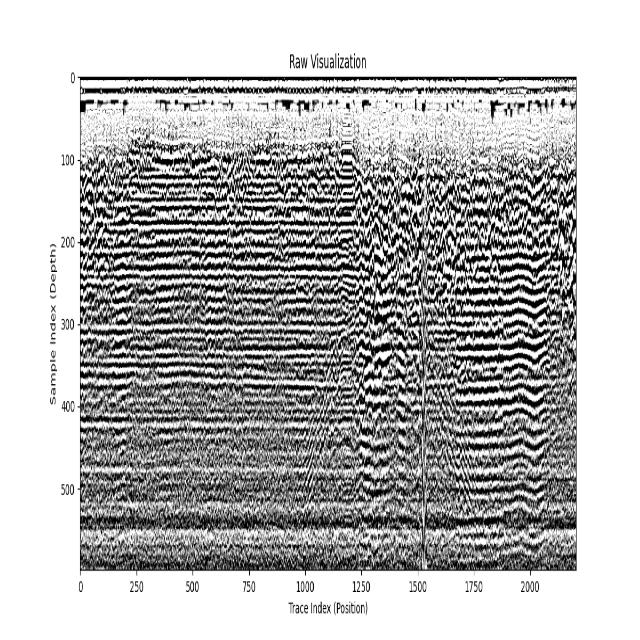anomaly: (449, 186, 549, 554), (352, 177, 431, 562), (296, 331, 344, 504), (282, 498, 283, 500)
